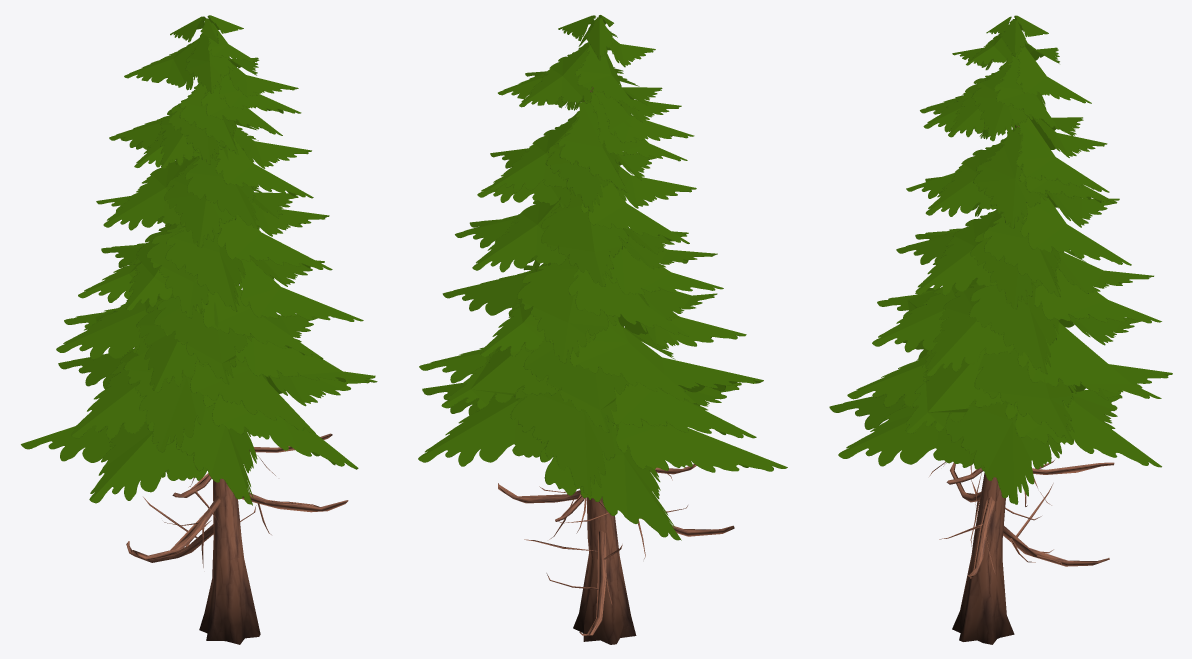
File: Pine_4.glb
The picture shows the model from 3 angles, left to right: view 1: azimuth 30°, elevation 25°; view 2: azimuth 150°, elevation 25°; view 3: azimuth 270°, elevation 25°; orthographic projection. The views are drawn at different scales.
Bounding box in the file's own units: 5.8 × 10.24 × 5.37.
2 materials, 2 textured.
